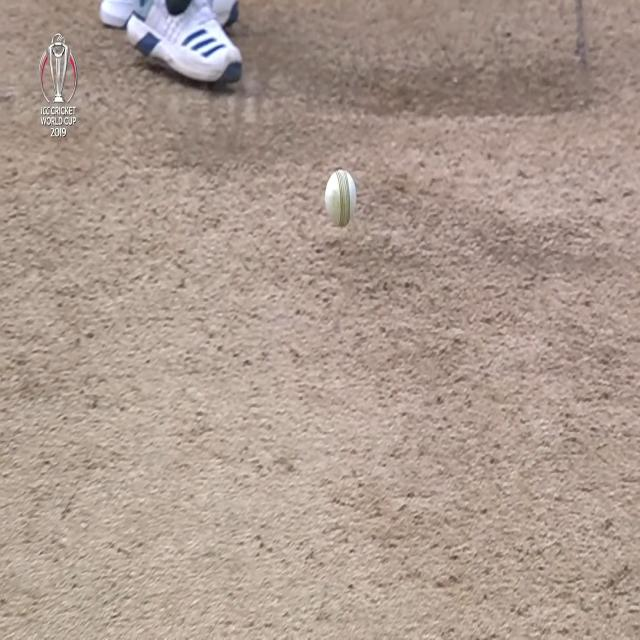Cricket ball: (324, 165, 358, 230)
